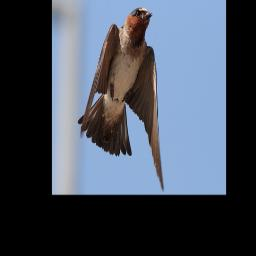Swallow: (78, 7, 164, 192)
